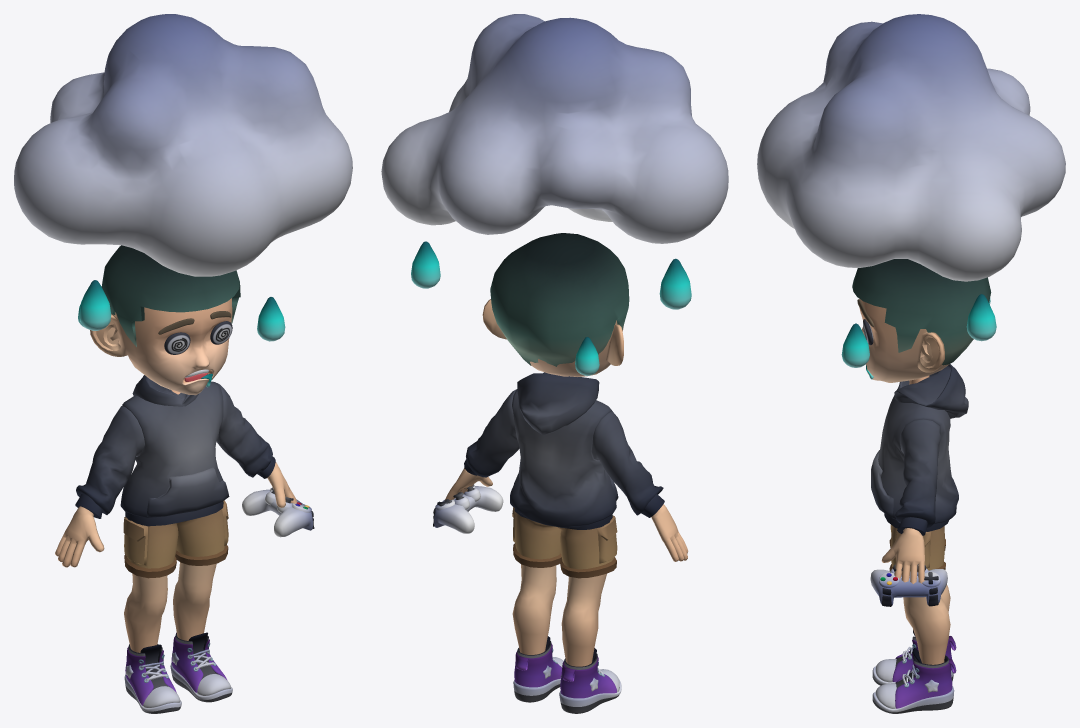
Rendered from MyAvatar.glb.
3 views of the same model, side by side, from view 1: azimuth 30°, elevation 25°; view 2: azimuth 150°, elevation 25°; view 3: azimuth 270°, elevation 25° (orthographic).
Visible parts, largest first — view 1: Rain_Cloud.001, M_Tone02.001, Head01_Tone02.001, Buzzcut02.001, Game_Controller.001, Spiral_Eyes.001; view 2: Rain_Cloud.001, M_Tone02.001, Buzzcut02.001, Game_Controller.001, Head01_Tone02.001; view 3: Rain_Cloud.001, M_Tone02.001, Buzzcut02.001, Head01_Tone02.001, Game_Controller.001.
Part boxes in pixels (left/top/right/bottom): Rain_Cloud.001: left=14, top=14, right=352, bottom=341; M_Tone02.001: left=55, top=375, right=297, bottom=713; Head01_Tone02.001: left=90, top=298, right=232, bottom=395; Buzzcut02.001: left=101, top=245, right=240, bottom=346; Game_Controller.001: left=242, top=487, right=314, bottom=537; Spiral_Eyes.001: left=164, top=321, right=232, bottom=354; Rain_Cloud.001: left=381, top=14, right=728, bottom=375; M_Tone02.001: left=445, top=372, right=688, bottom=713; Buzzcut02.001: left=490, top=233, right=629, bottom=366; Game_Controller.001: left=433, top=484, right=503, bottom=533; Head01_Tone02.001: left=482, top=299, right=623, bottom=376; Rain_Cloud.001: left=757, top=14, right=1065, bottom=367; M_Tone02.001: left=871, top=364, right=968, bottom=713; Buzzcut02.001: left=852, top=259, right=991, bottom=365; Head01_Tone02.001: left=857, top=299, right=949, bottom=382; Game_Controller.001: left=870, top=564, right=947, bottom=606.
Bounding box in the file's own units: 0.4228 × 0.8966 × 0.3732.
6 materials, 6 textured.
